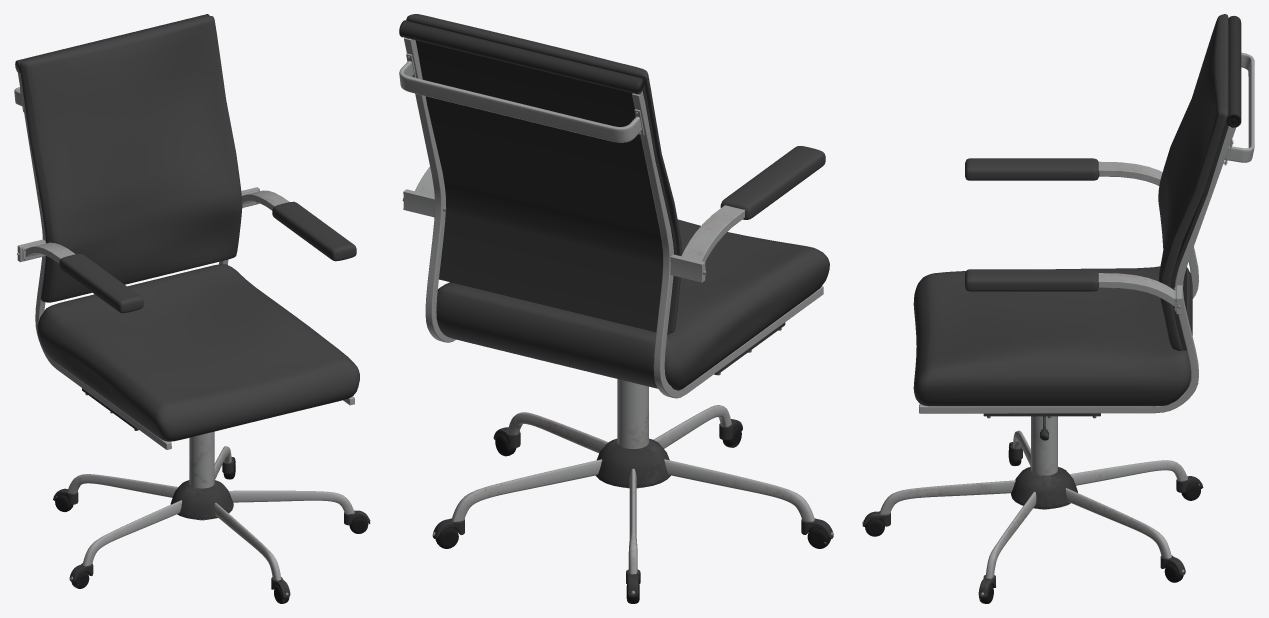
File: Poltrona_presidente.fbx
3 views of the same model, side by side, from view 1: azimuth 30°, elevation 25°; view 2: azimuth 150°, elevation 25°; view 3: azimuth 270°, elevation 25° (orthographic). The views are drawn at different scales.
Visible parts, largest first — view 1: FG Office Chair 2.Shape; view 2: FG Office Chair 2.Shape; view 3: FG Office Chair 2.Shape.
Boxes of the visible parts, x1,y1,x2,y2 form: FG Office Chair 2.Shape: (14,14,370,603); FG Office Chair 2.Shape: (399,14,833,603); FG Office Chair 2.Shape: (862,14,1254,603).
Bounding box in the file's own units: 71.58 × 107 × 80.03.
2 materials, 2 textured.
